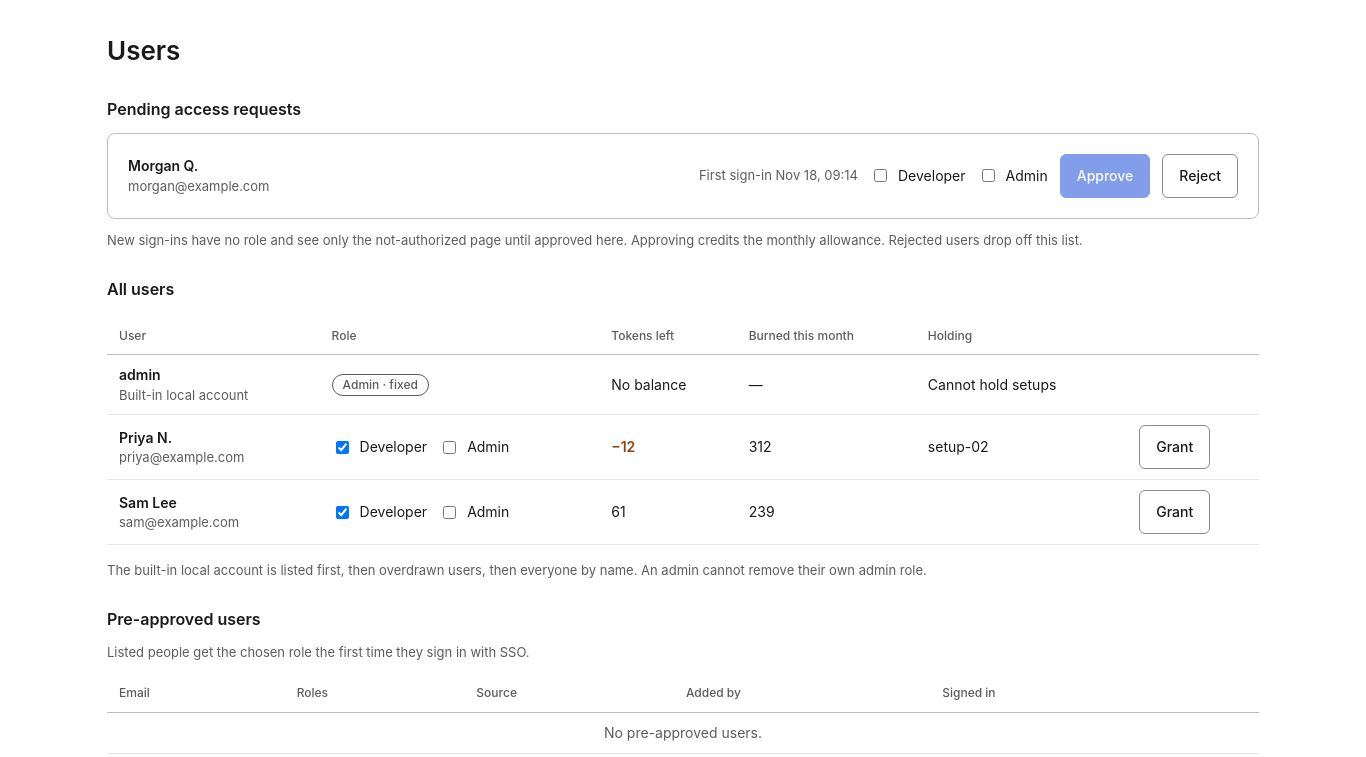
Test case: ADM-1 role changes › shows the has_active_hold refusal as a message
Expected: the table named "Users" is shown, left=107, top=317, right=1259, bottom=545
What coordinates should you click on to do the following:
click the checkbox labelled "Admin" in the row of "Sam Lee"
I would click on:
 (450, 512)
Its box is left=443, top=506, right=456, bottom=519.
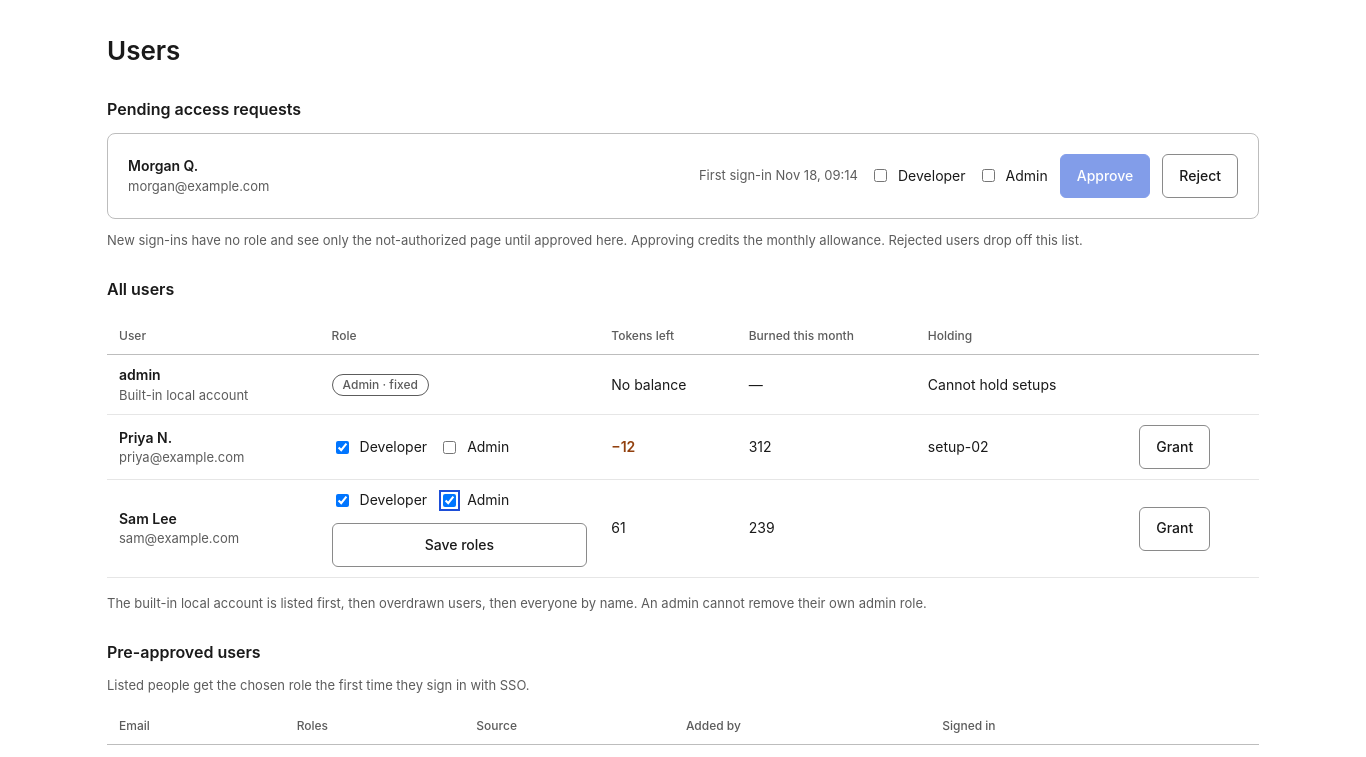
What coordinates should you click on to do the following:
click the button with aria-label "Save roles for Sam Lee"
I would click on:
 (459, 545)
Its box is left=332, top=523, right=587, bottom=567.
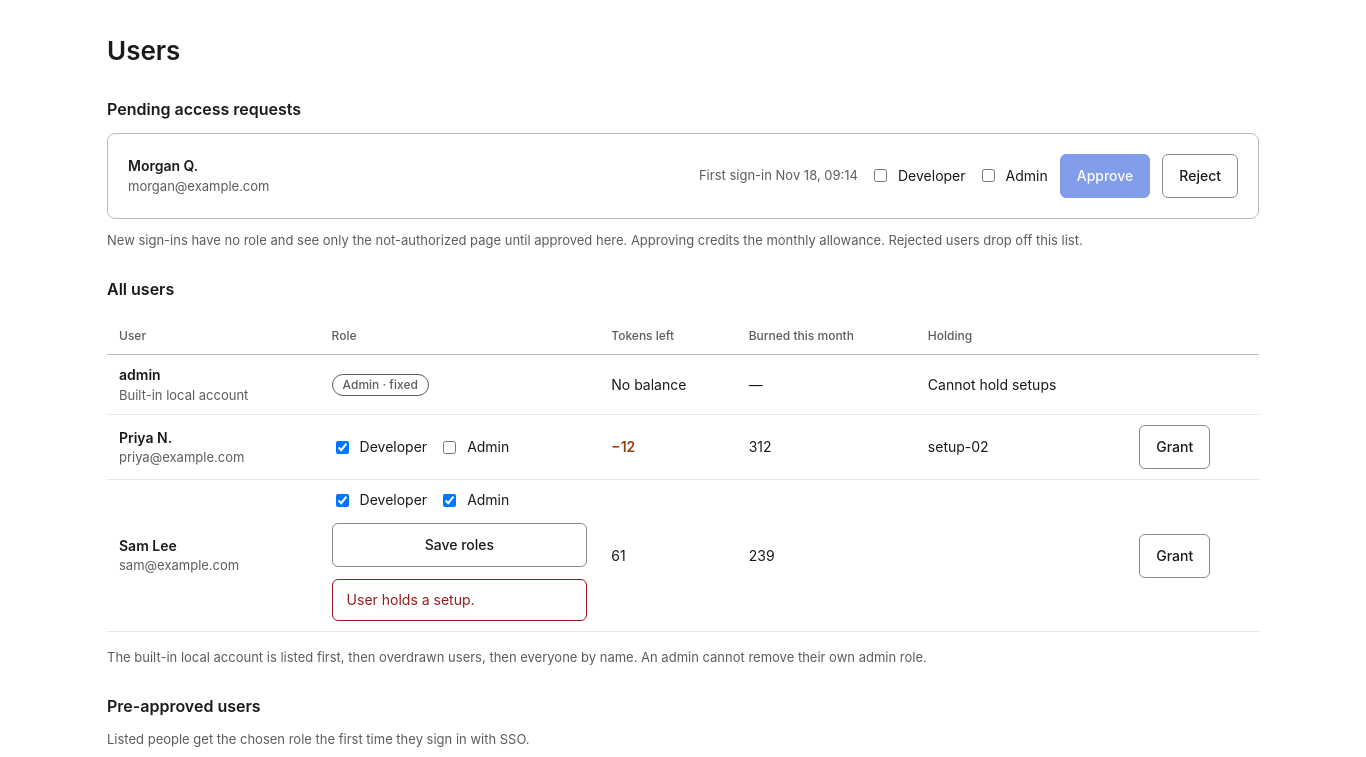
Now the text "User holds a setup." is shown, box left=332, top=579, right=587, bottom=621
